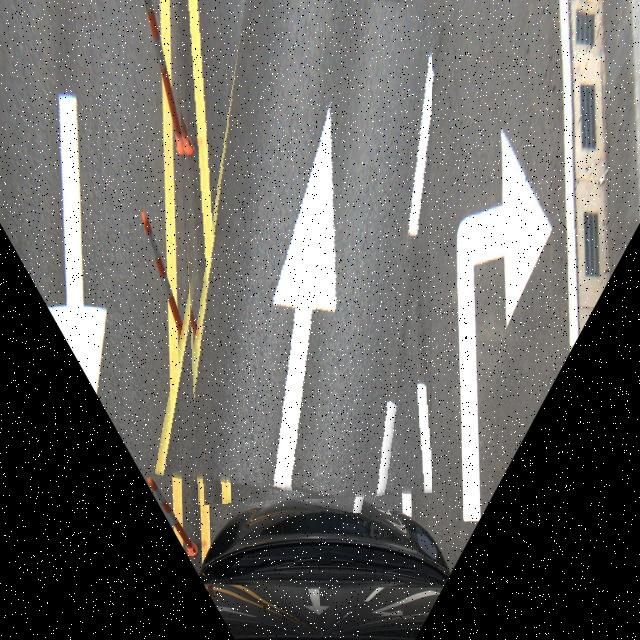forward: (176, 0, 432, 505)
